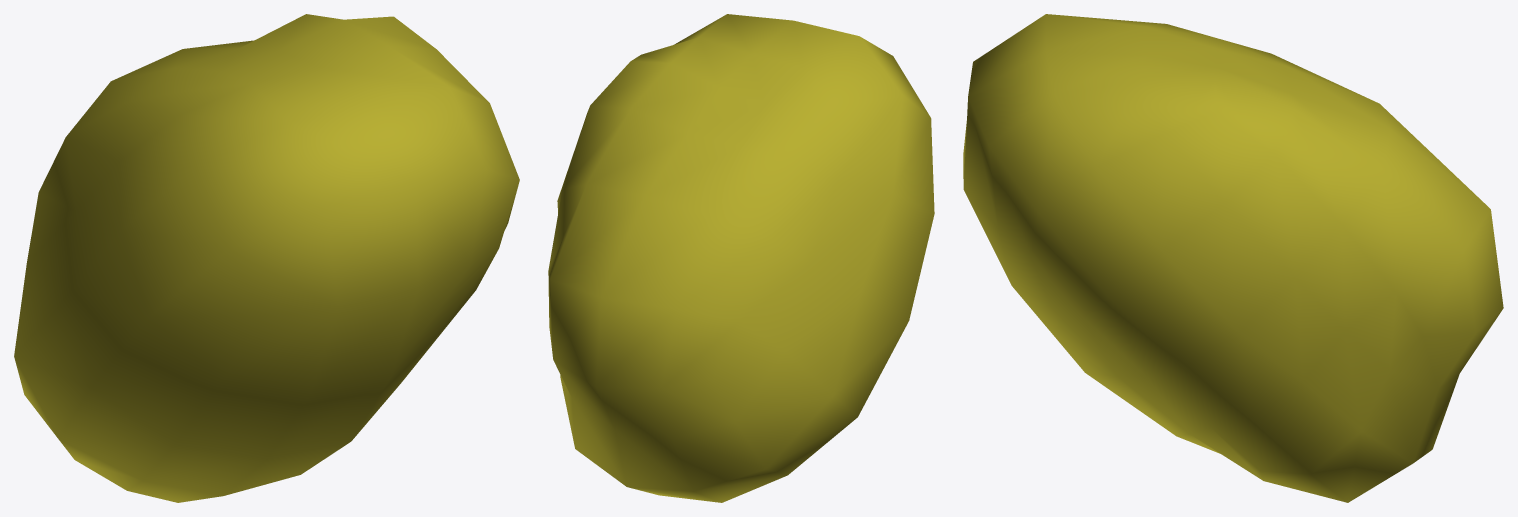
File: potato.glb
3 renders of one model, left to right at view 1: azimuth 30°, elevation 25°; view 2: azimuth 150°, elevation 25°; view 3: azimuth 270°, elevation 25°, orthographic. The views are drawn at different scales.
Parts seen in each view (by area): view 1: Cube; view 2: Cube; view 3: Cube.
Boxes of the visible parts, x1=… form: Cube: x1=14, y1=14, x2=519, y2=502; Cube: x1=548, y1=14, x2=934, y2=502; Cube: x1=963, y1=14, x2=1503, y2=502.
Size of the model in its own units: 0.332 by 0.3795 by 0.4267.
